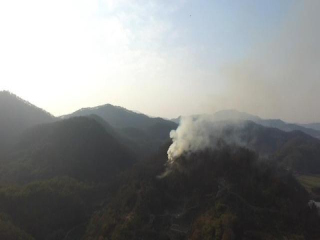smoke: (155, 106, 257, 183)
